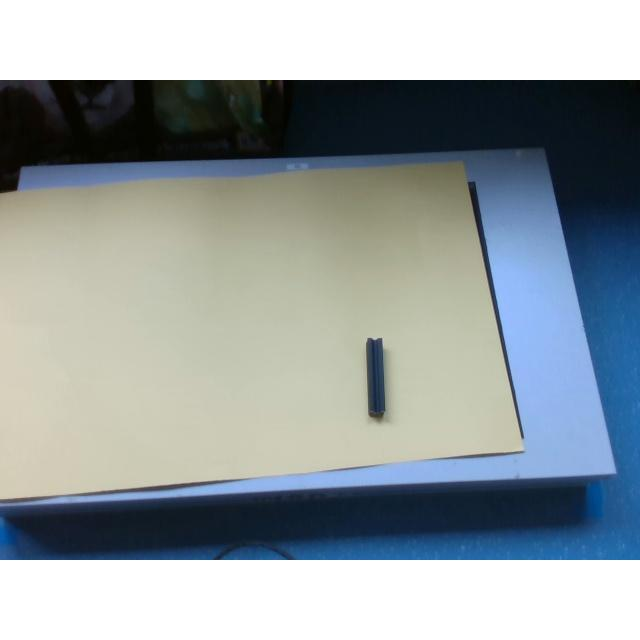F20_20_B: (366, 338, 386, 416)
